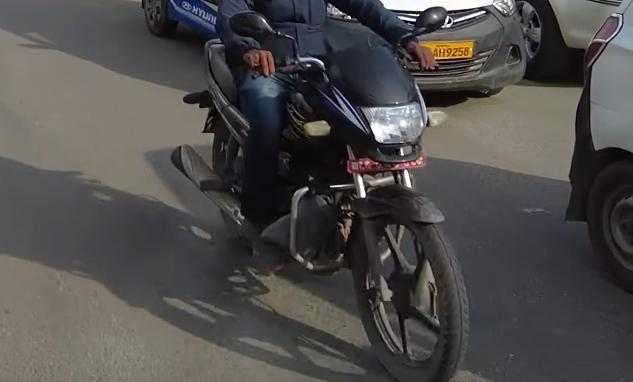bike: (168, 0, 474, 382)
